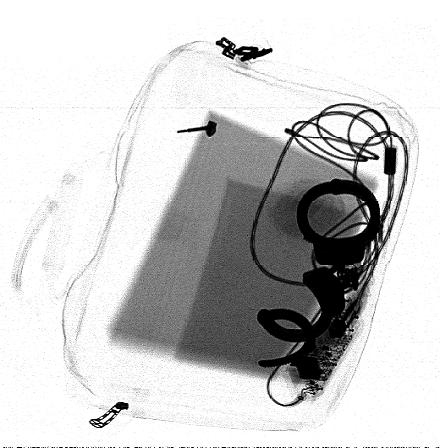HandCuffs: (257, 177, 384, 381)
